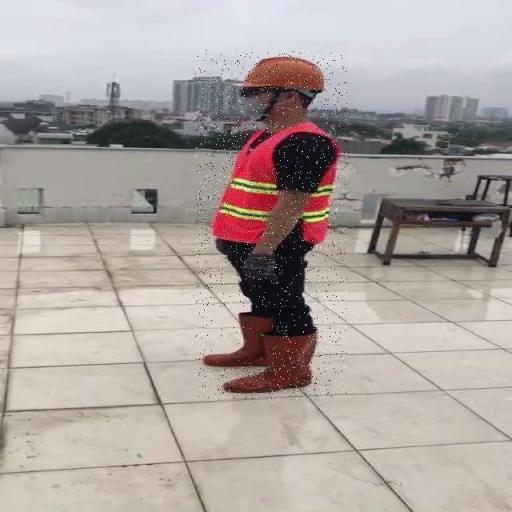Boots: (220, 328, 322, 393), (205, 310, 270, 369)
Helmet: (235, 55, 330, 93)
Person: (195, 50, 347, 400)
